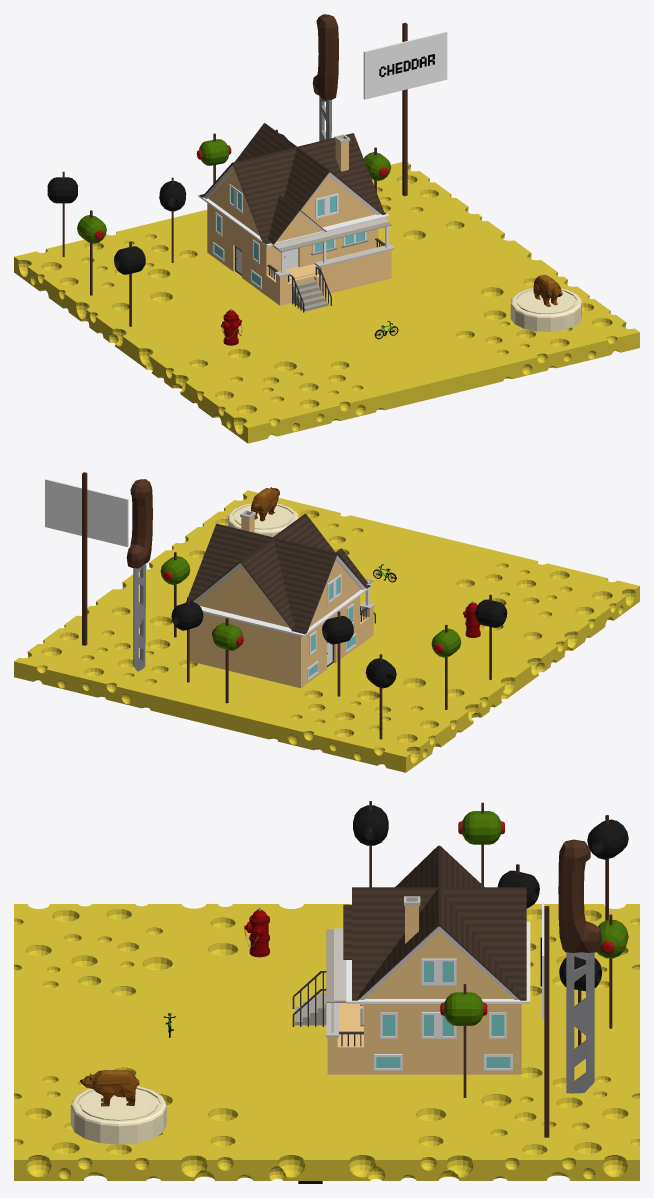
3 renders of one model, top to bottom at view 1: azimuth 30°, elevation 25°; view 2: azimuth 150°, elevation 25°; view 3: azimuth 270°, elevation 25°, orthographic. The views are drawn at different scales.
Parts seen in each view (by area): view 1: Cube.022, Cube.235, Cube.023, Cylinder.016, Cube.024, Sphere.017, Sphere.016, Sphere.020, Sphere.018, Sphere.022, ANIMAL_OSO, Sphere.019; view 2: Cube.022, Cube.235, Cube.023, Cube.024, Cylinder.016, Sphere.020, Sphere.016, Sphere.022, Sphere.017, Sphere.021, Sphere.018, Sphere.019 (+2 smaller); view 3: Cube.022, Cube.235, Cube.024, Cylinder.016, Cube.023, Sphere.019, Sphere.016, ANIMAL_OSO, Sphere.018, Sphere.017, Sphere.022, OBJRANDOM_FIRE_HYDRANT (+2 smaller).
Part boxes in pixels (<box>): Cube.022: <box>14,162,639,443</box>; Cube.235: <box>198,123,394,312</box>; Cube.023: <box>363,22,447,196</box>; Cylinder.016: <box>510,288,581,331</box>; Cube.024: <box>312,14,338,141</box>; Sphere.017: <box>114,241,145,326</box>; Sphere.016: <box>47,171,77,256</box>; Sphere.020: <box>159,177,186,262</box>; Sphere.018: <box>77,210,106,295</box>; Sphere.022: <box>196,133,231,183</box>; ANIMAL_OSO: <box>533,274,562,306</box>; Sphere.019: <box>364,147,390,192</box>; Cube.022: <box>14,490,639,772</box>; Cube.235: <box>185,510,375,688</box>; Cube.023: <box>45,472,128,645</box>; Cube.024: <box>126,479,152,671</box>; Cylinder.016: <box>227,503,298,537</box>; Sphere.020: <box>322,611,353,696</box>; Sphere.016: <box>365,654,396,739</box>; Sphere.022: <box>212,618,243,703</box>; Sphere.017: <box>475,594,507,679</box>; Sphere.021: <box>171,597,203,682</box>; Sphere.018: <box>431,624,461,709</box>; Sphere.019: <box>160,552,190,637</box>; Cube.022: <box>14,904,639,1180</box>; Cube.235: <box>292,845,530,1074</box>; Cube.024: <box>558,839,601,1093</box>; Cylinder.016: <box>70,1086,166,1144</box>; Cube.023: <box>540,902,549,1137</box>; Sphere.019: <box>440,984,487,1097</box>; Sphere.016: <box>587,815,628,920</box>; ANIMAL_OSO: <box>80,1069,139,1106</box>; Sphere.018: <box>458,802,504,885</box>; Sphere.017: <box>353,801,388,887</box>; Sphere.022: <box>597,914,628,1028</box>; OBJRANDOM_FIRE_HYDRANT: <box>244,907,269,957</box>.
Size of the model in its own units: 3917 by 2015 by 4000.
34 materials, 3 textured.
